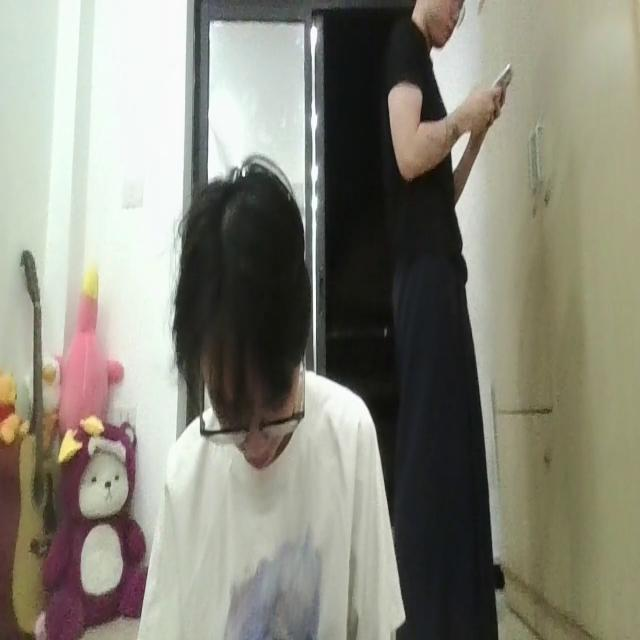extra_person: (384, 0, 513, 640)
student: (146, 157, 392, 640)
